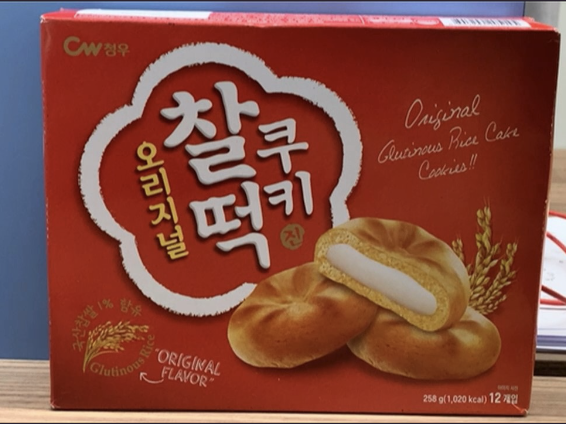cookies_150g: (60, 35, 520, 407)
